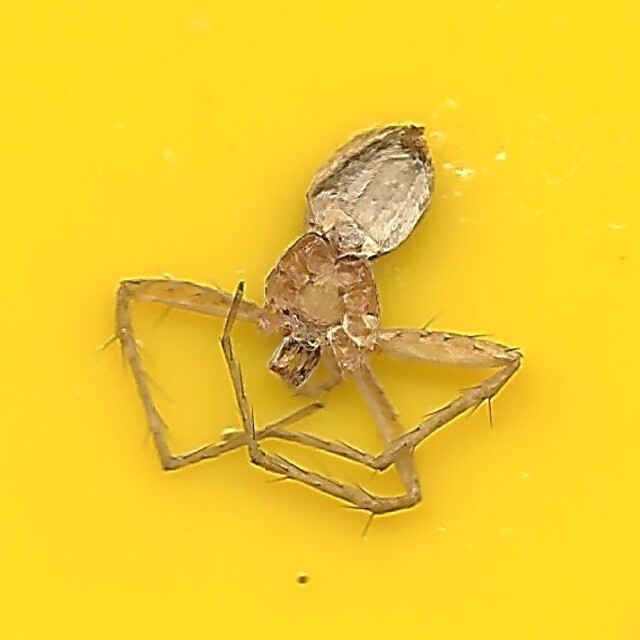Araneae: (113, 125, 527, 515)
